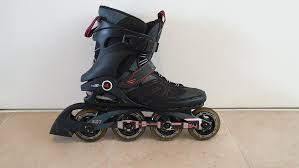roller_blate: (61, 8, 221, 142)
